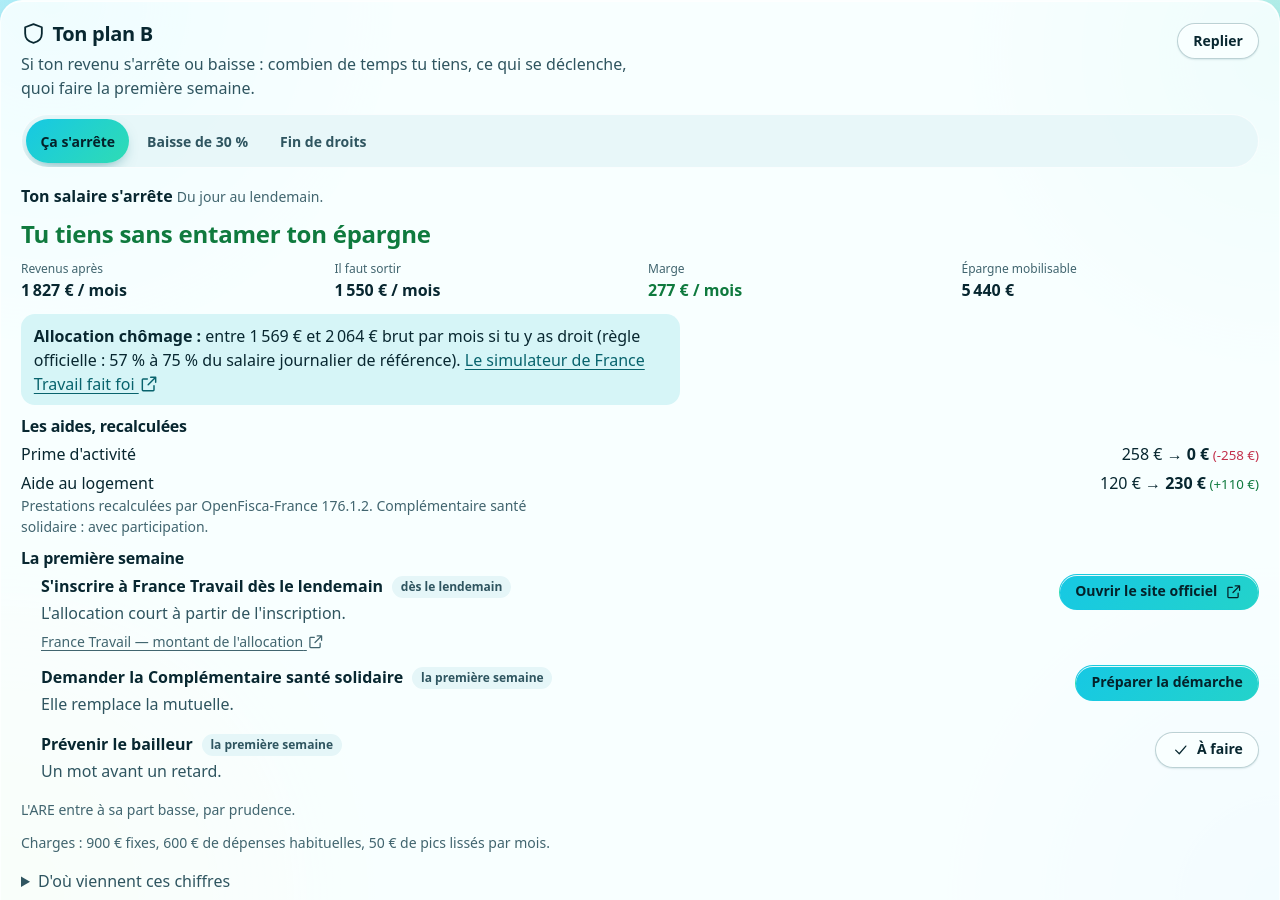
Test: plan B « perte de revenu » › shows three scenarios, the aids before/after, the ARE range with the official simulator, and prepares procedures
Expected: the message "Tu tiens sans entamer ton épargne" is shown, [21,217,431,250]
Click the button "Préparer la démarche": coordinates (1167, 682) [1075,664,1259,700]
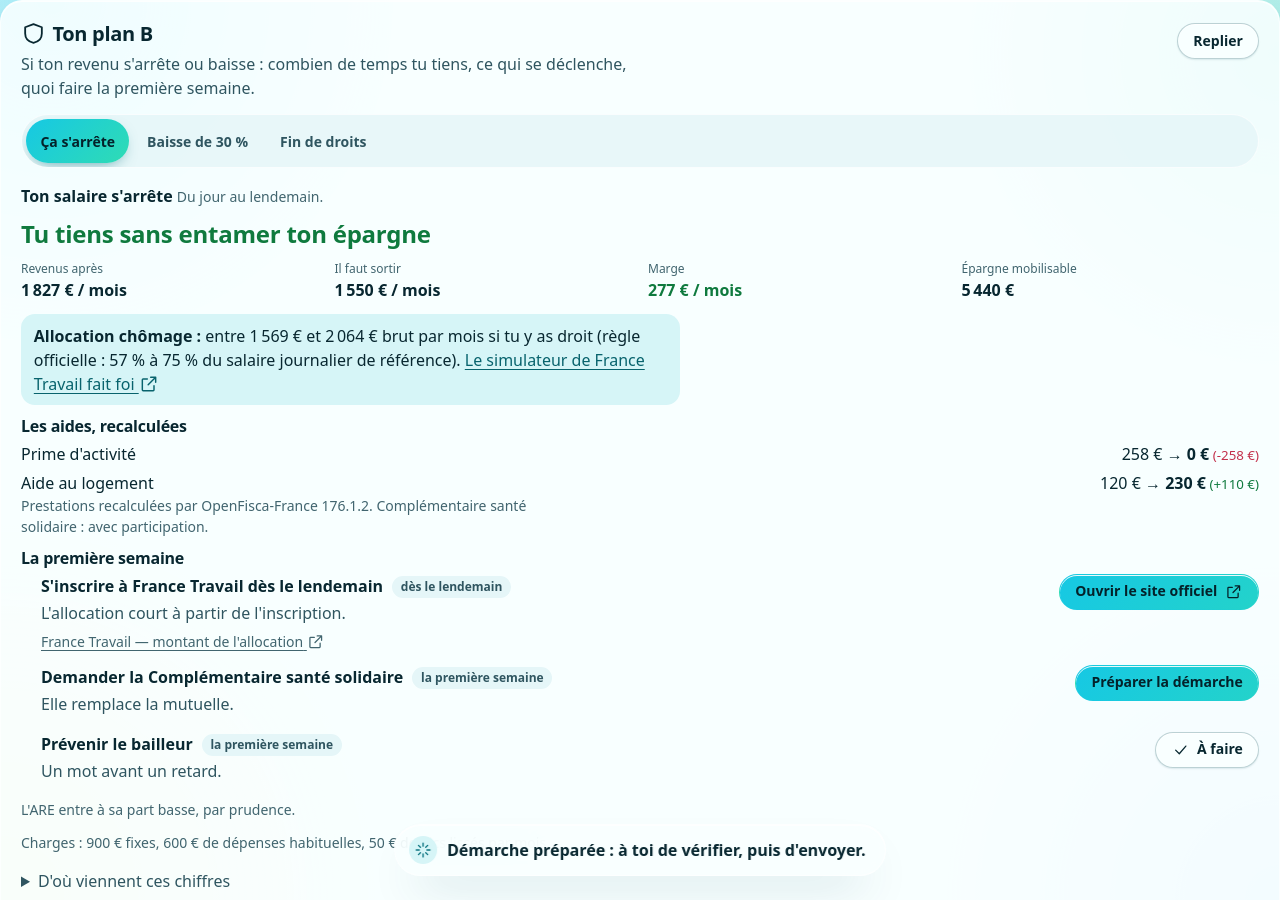
Click the button "À faire": coordinates (1207, 750) [1155,732,1259,768]
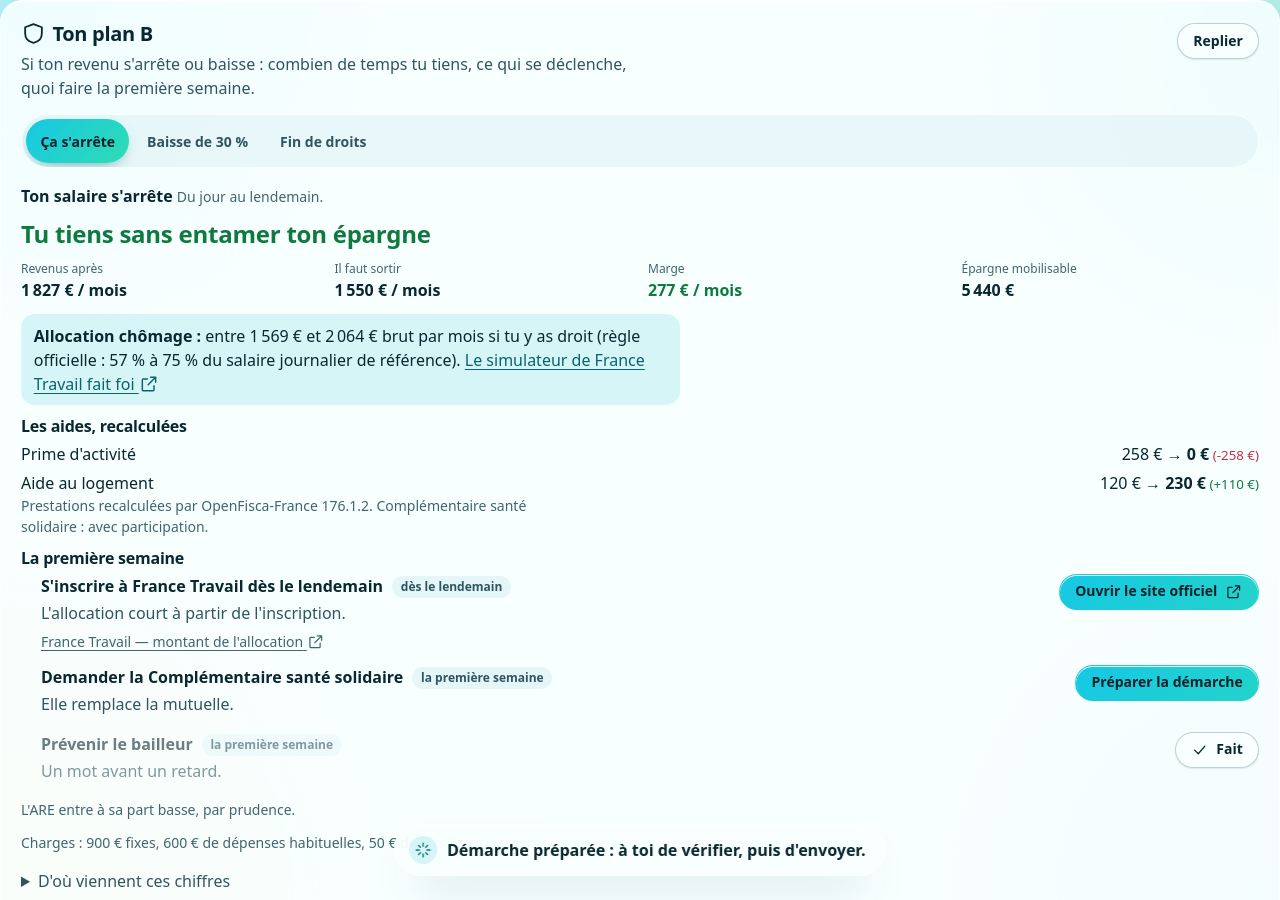
Expected: the button "Fait" is pressed, [1175,732,1259,768]
Click the button "Fin de droits": coordinates (323, 141) [266,119,381,163]
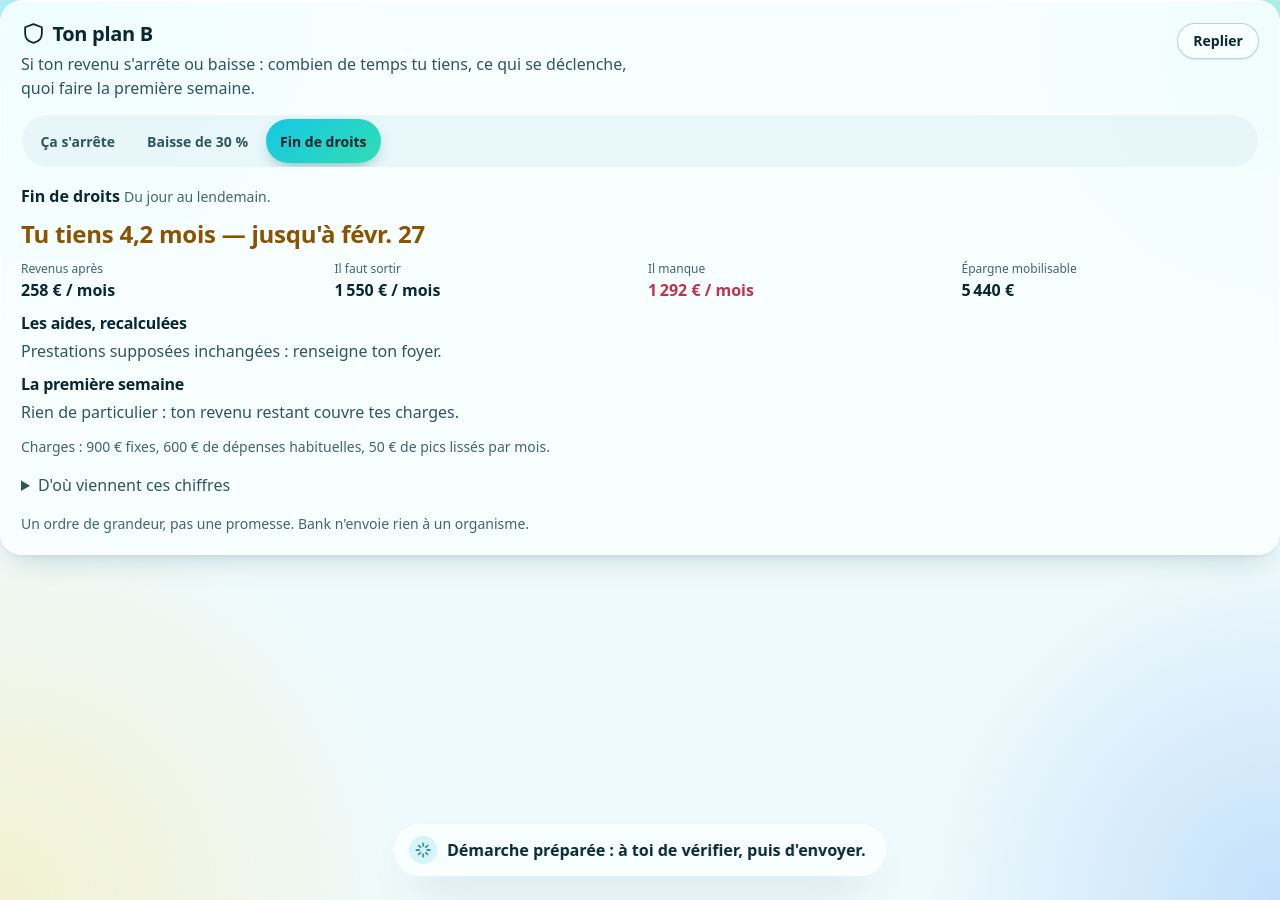
Expected: the message "Tu tiens 4,2 mois — jusqu'à févr. 27" is shown, [21,217,425,250]
Expected: the text "Prestations supposées inchangées" is shown, [21,340,442,362]
Click the button "Baisse de 30 %": coordinates (198, 141) [133,119,262,163]
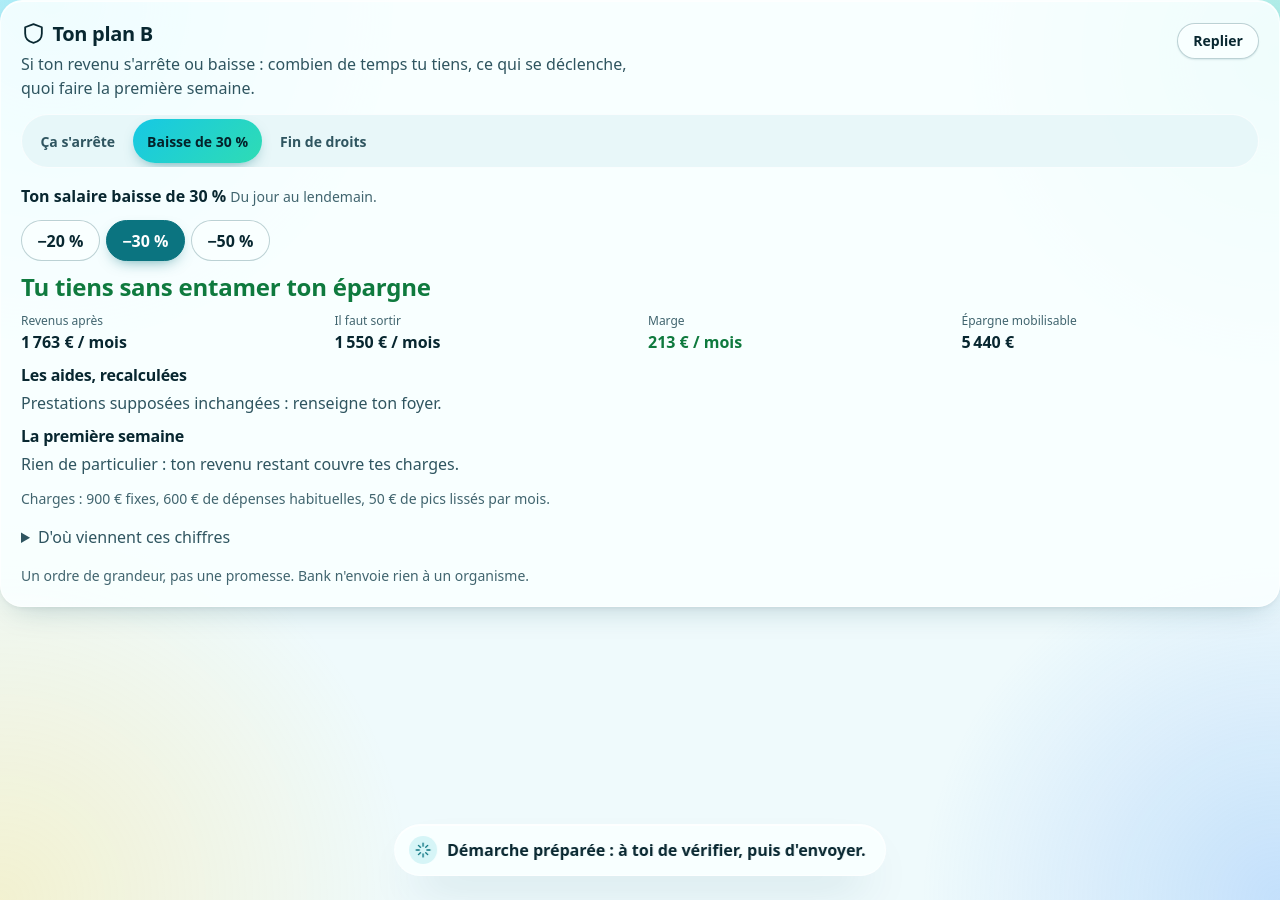
Click the button "−50 %": coordinates (230, 241) [191,220,270,261]
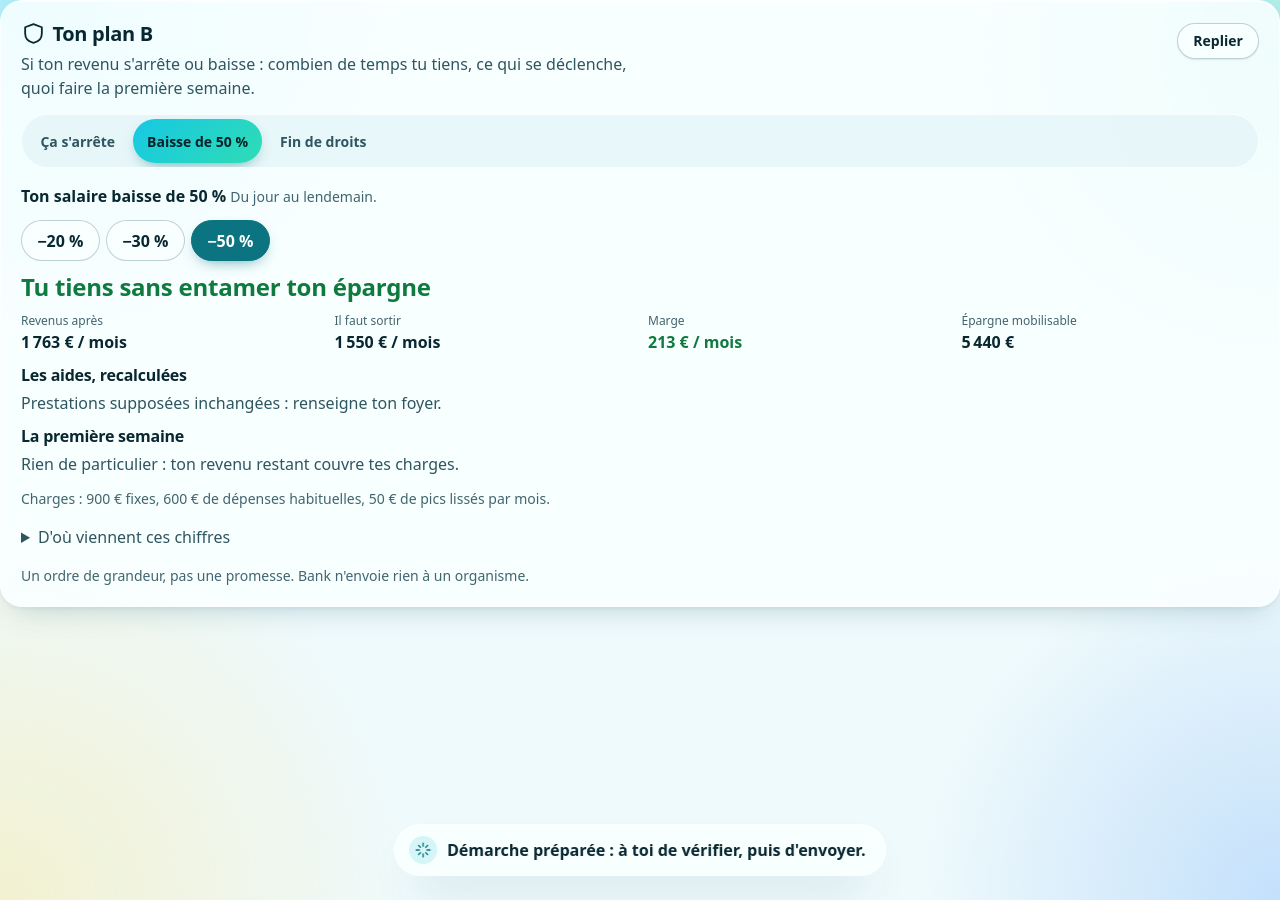
Expected: the text "n'envoie rien" is shown, [21,566,529,585]
Expected: the button "Baisse de 50 %" is shown, [133,119,262,163]
